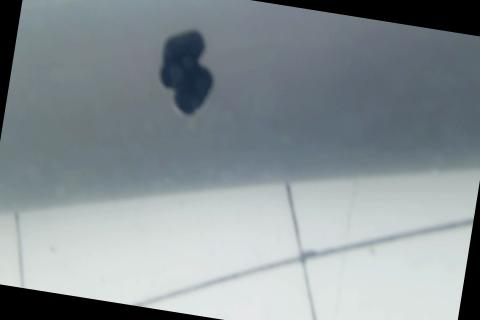kebocoran: (152, 23, 225, 121)
